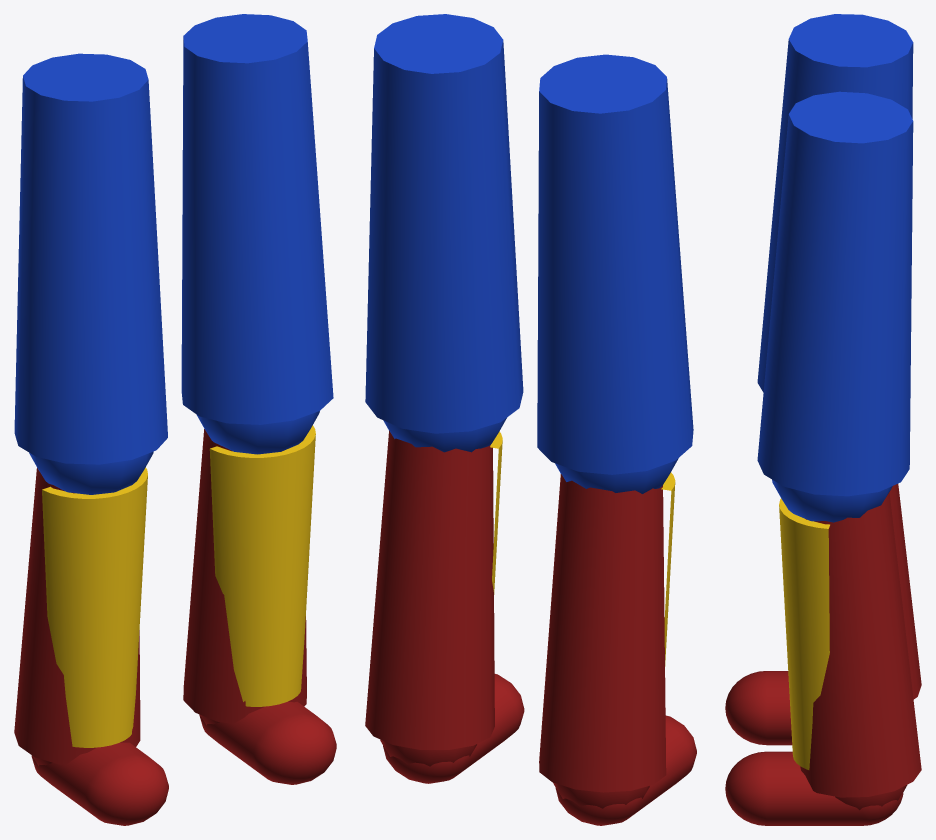
The model's file is royal_greaves.glb.
The picture shows the model from 3 angles, left to right: view 1: azimuth 30°, elevation 25°; view 2: azimuth 150°, elevation 25°; view 3: azimuth 270°, elevation 25°; orthographic projection. The views are drawn at different scales.
Visible parts, largest first — view 1: trouser_r, trouser_l, shin_greave_r, shin_greave_l, boot_shaft_r, boot_shaft_l, boot_foot_r, boot_foot_l, trouser_r_joint, trouser_l_joint; view 2: trouser_l, trouser_r, boot_shaft_l, boot_shaft_r, boot_foot_r, boot_foot_l, trouser_r_joint, trouser_l_joint, boot_shaft_r_joint, boot_shaft_l_joint, shin_greave_r, shin_greave_l; view 3: trouser_l, boot_shaft_l, trouser_r, shin_greave_l, boot_foot_l, boot_foot_r, trouser_l_joint, boot_shaft_r, boot_shaft_l_joint.
Part boxes in pixels (x1,y1,x2,y2): trouser_r: [14, 53, 167, 464]; trouser_l: [181, 14, 333, 424]; shin_greave_r: [42, 467, 147, 747]; shin_greave_l: [209, 425, 315, 706]; boot_shaft_r: [14, 468, 140, 764]; boot_shaft_l: [183, 429, 306, 723]; boot_foot_r: [31, 742, 168, 825]; boot_foot_l: [199, 701, 336, 784]; trouser_r_joint: [29, 451, 153, 494]; trouser_l_joint: [196, 411, 319, 454]; trouser_l: [365, 14, 523, 433]; trouser_r: [537, 54, 693, 474]; boot_shaft_l: [365, 430, 494, 749]; boot_shaft_r: [539, 474, 666, 792]; boot_foot_r: [555, 715, 696, 825]; boot_foot_l: [383, 674, 524, 783]; trouser_r_joint: [555, 458, 678, 493]; trouser_l_joint: [383, 418, 506, 452]; boot_shaft_r_joint: [553, 782, 649, 808]; boot_shaft_l_joint: [380, 739, 476, 766]; shin_greave_r: [661, 472, 675, 666]; shin_greave_l: [490, 431, 502, 594]; trouser_l: [757, 91, 913, 496]; boot_shaft_l: [800, 492, 921, 797]; trouser_r: [757, 14, 913, 392]; shin_greave_l: [779, 498, 829, 769]; boot_foot_l: [725, 751, 903, 825]; boot_foot_r: [725, 671, 792, 745]; trouser_l_joint: [772, 479, 892, 522]; boot_shaft_r: [889, 484, 921, 699]; boot_shaft_l_joint: [835, 785, 907, 810].
Size of the model in its own units: 0.3912 by 0.8955 by 0.2266.
